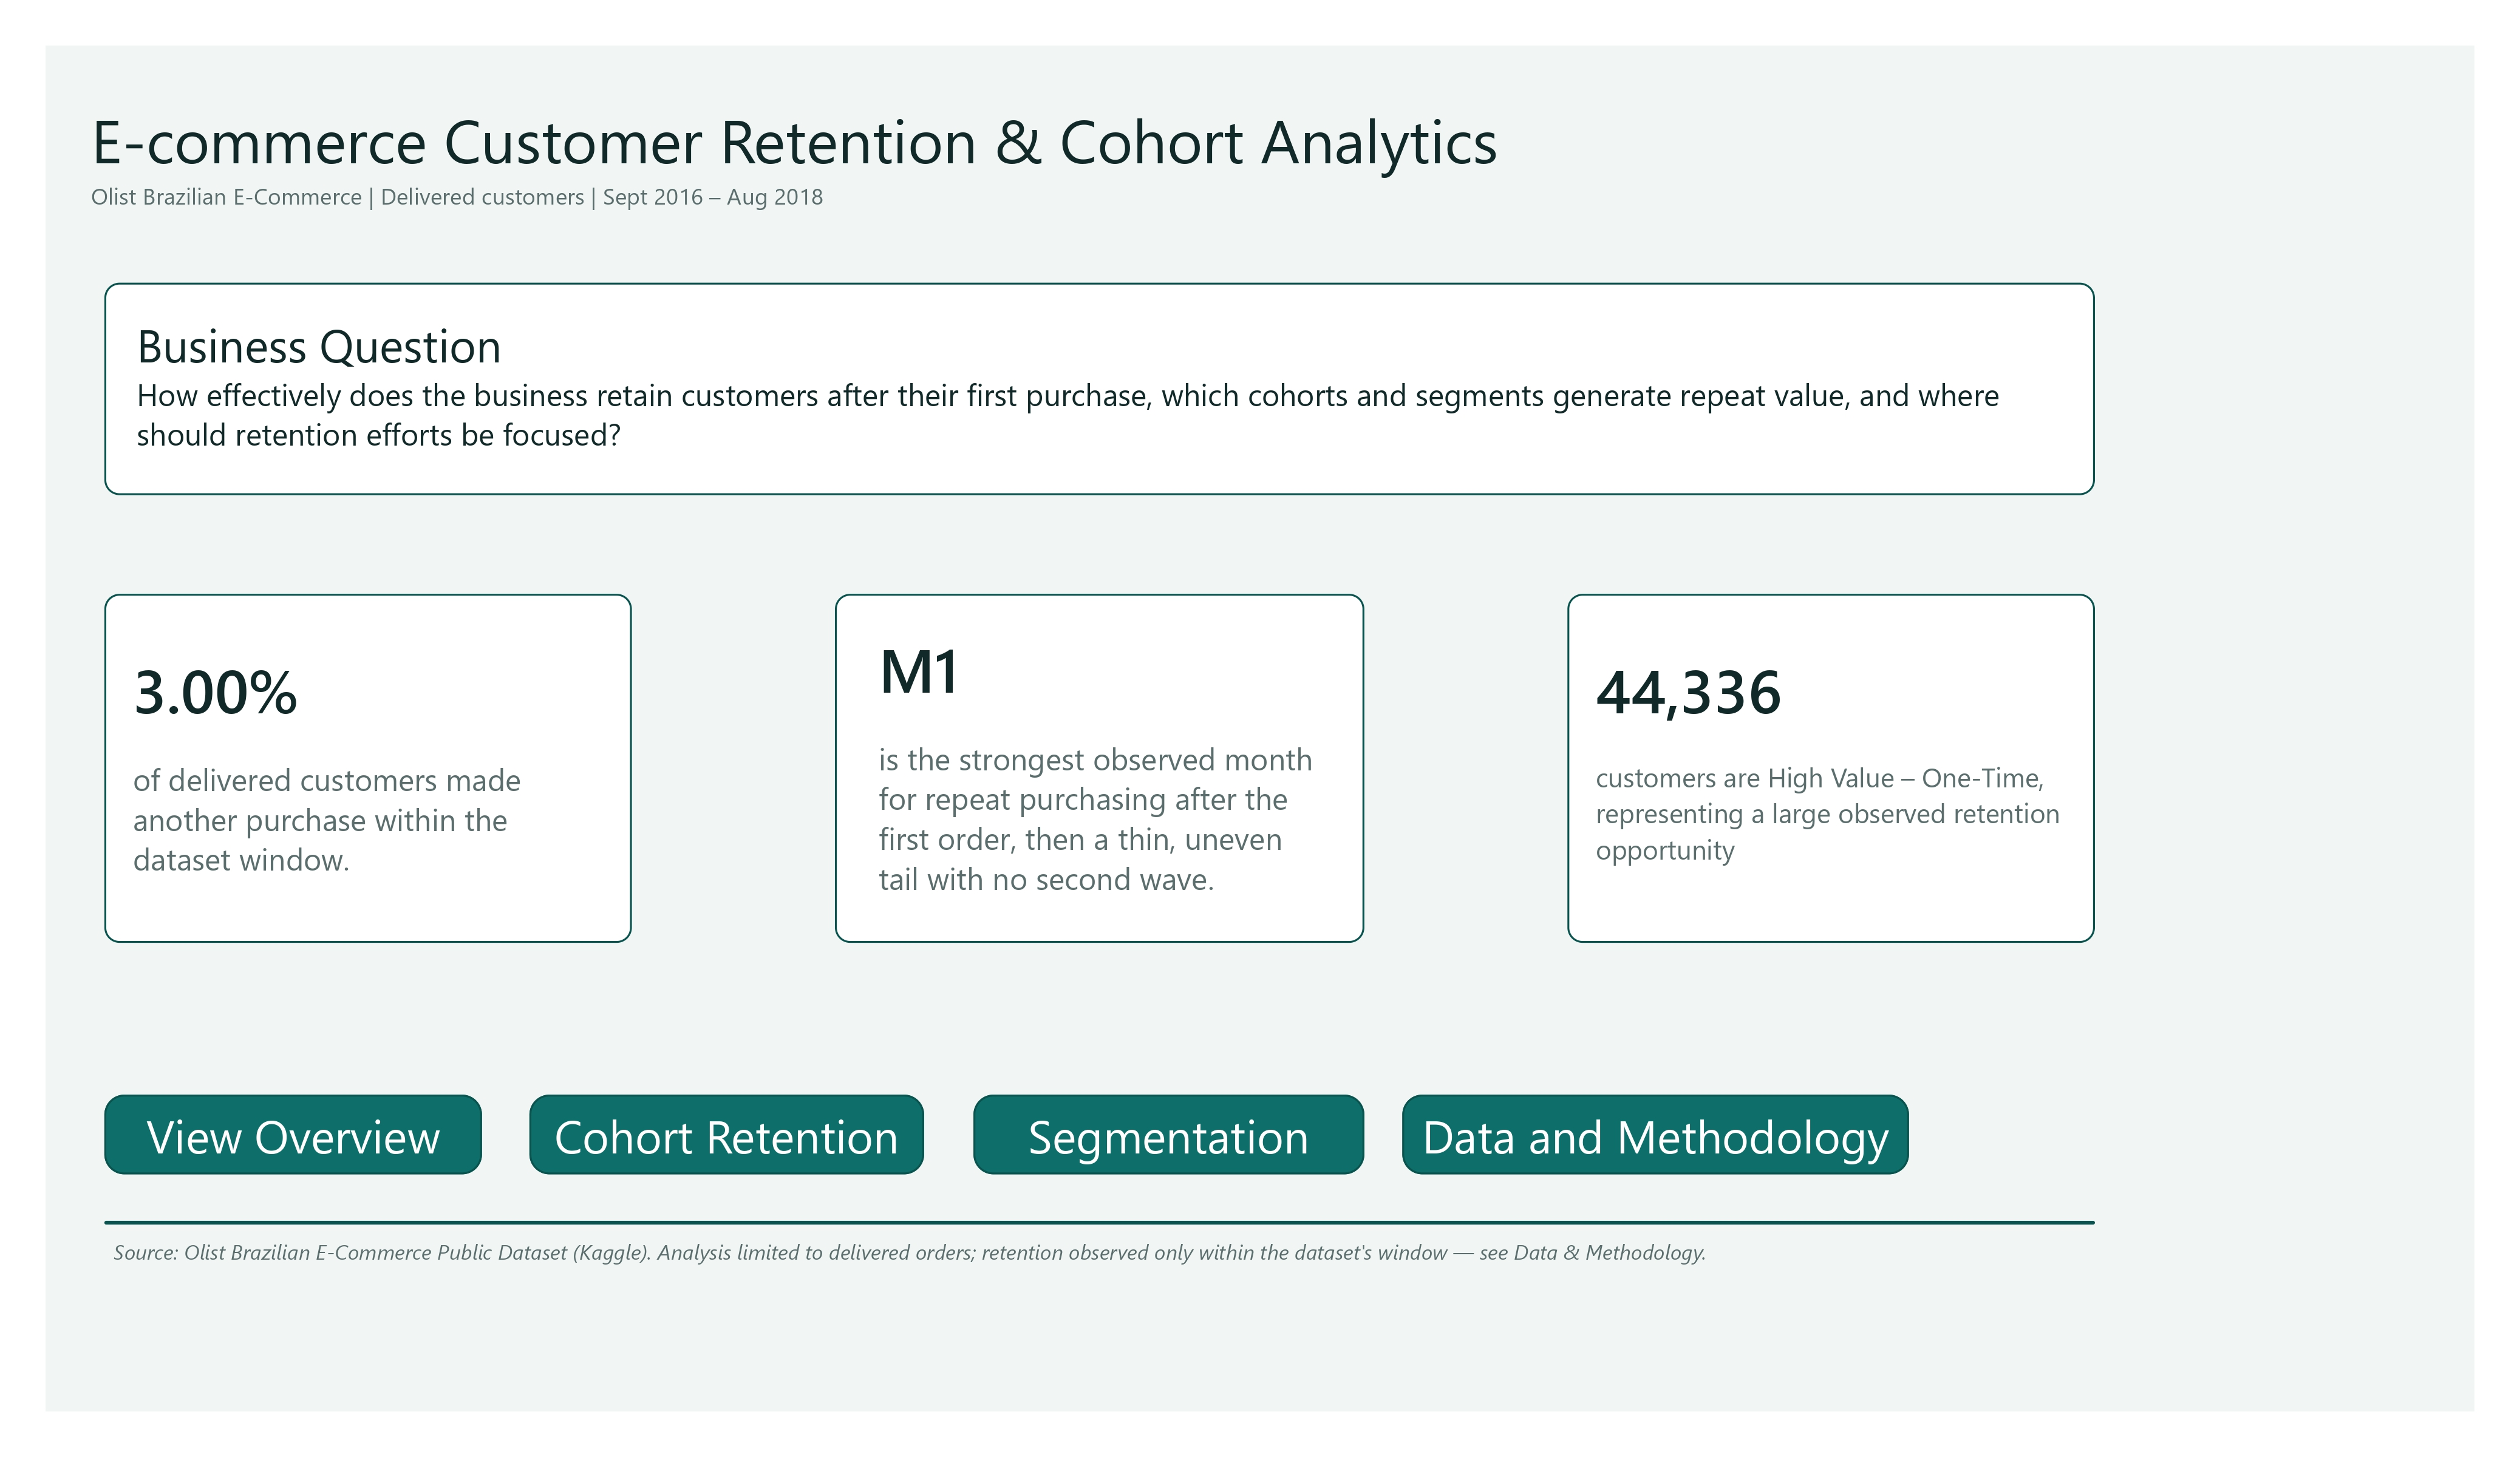

The dashboard page shown, as its layout file describes it:
{"tool":"powerbi","page":{"name":"Homepage","canvas":[1280,720],"ordinal":0},"visuals":[{"type":"textbox","box":[19.1,21.8,762.7,70.9],"z":0},{"type":"shape","box":[30.9,124.5,1049.1,111.8],"z":1000,"group":"g1"},{"type":"shape","box":[30.9,289.1,278.2,183.6],"z":1000},{"type":"textbox","box":[2.8,135.8,1031.8,91.8],"z":2000,"group":"g1"},{"type":"shape","box":[416.4,289.1,278.2,183.6],"z":2000},{"type":"shape","box":[801.8,289.1,278.2,183.6],"z":3000},{"type":"textbox","title":"3.00%","box":[40.9,317.3,258.2,130],"z":4000},{"type":"textbox","title":"M1","box":[433.6,306.4,243.6,152.7],"z":5000},{"type":"textbox","title":"44,336","box":[811.8,317.3,258.2,130],"z":6000},{"type":"shape","box":[30.9,552.7,199.1,41.8],"z":7000},{"type":"shape","box":[254.5,552.7,208.2,41.8],"z":8000},{"type":"shape","box":[489.1,552.7,205.5,41.8],"z":9000},{"type":"shape","box":[30.9,607.3,1049.1,26.4],"z":10000},{"type":"textbox","title":"3.00%","box":[30.9,620.9,950.9,29.1],"z":11000},{"type":"group","id":"g1","title":"Group 1","box":[2.8,124.5,1077.2,111.8],"z":12000},{"type":"shape","box":[715.5,552.7,266.4,41.8],"z":13000}]}

Visuals, with their boxes on the page's 1280x720 design canvas (x1, y1, x2, y2). These are canvas units, not pixel positions in the 2520x1457 screenshot, which may show the page scaled, cropped or inside an application window:
textbox: x1=19, y1=22, x2=782, y2=93
shape: x1=31, y1=124, x2=1080, y2=236
shape: x1=31, y1=289, x2=309, y2=473
textbox: x1=3, y1=136, x2=1035, y2=228
shape: x1=416, y1=289, x2=695, y2=473
shape: x1=802, y1=289, x2=1080, y2=473
"3.00%" textbox: x1=41, y1=317, x2=299, y2=447
"M1" textbox: x1=434, y1=306, x2=677, y2=459
"44,336" textbox: x1=812, y1=317, x2=1070, y2=447
shape: x1=31, y1=553, x2=230, y2=594
shape: x1=254, y1=553, x2=463, y2=594
shape: x1=489, y1=553, x2=695, y2=594
shape: x1=31, y1=607, x2=1080, y2=634
"3.00%" textbox: x1=31, y1=621, x2=982, y2=650
"Group 1" group: x1=3, y1=124, x2=1080, y2=236
shape: x1=716, y1=553, x2=982, y2=594
